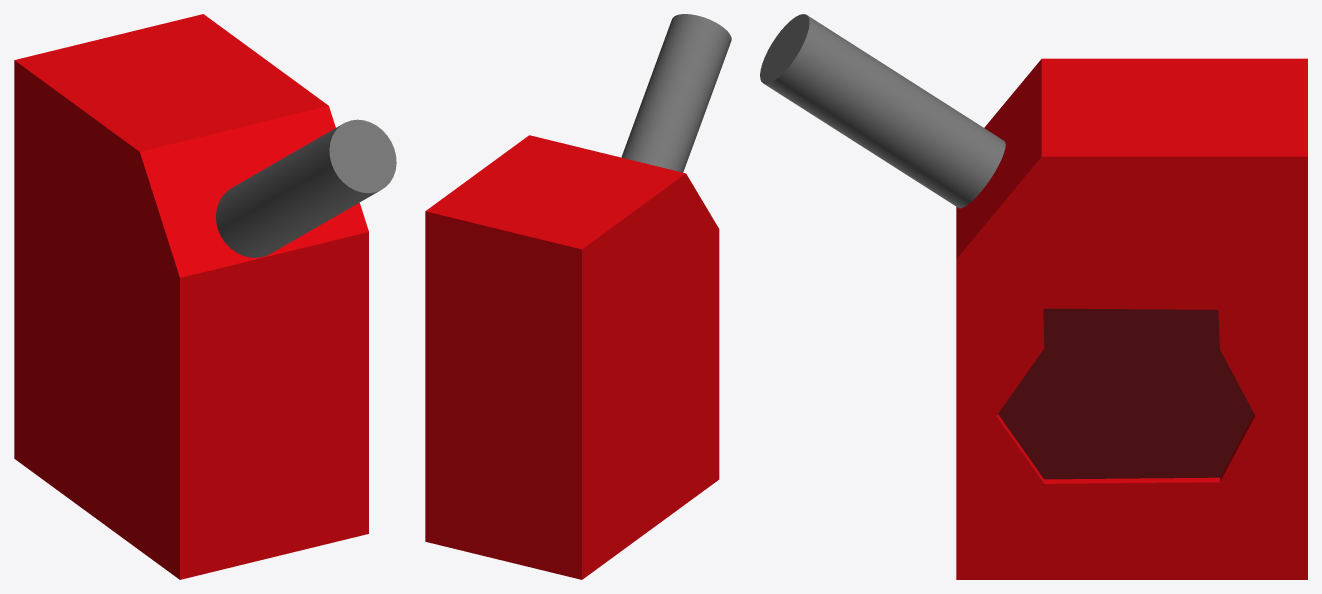
Rendered from gasolina.fbx.
3 views of the same model, side by side, from view 1: azimuth 30°, elevation 25°; view 2: azimuth 150°, elevation 25°; view 3: azimuth 270°, elevation 25° (orthographic). The views are drawn at different scales.
Parts seen in each view (by area): view 1: Cylinder; view 2: Cylinder; view 3: Cylinder.
Part boxes in pixels (<box>): Cylinder: <box>14,14,396,579</box>; Cylinder: <box>425,14,731,579</box>; Cylinder: <box>760,14,1307,579</box>.
Size of the model in its own units: 132 by 323 by 312.
